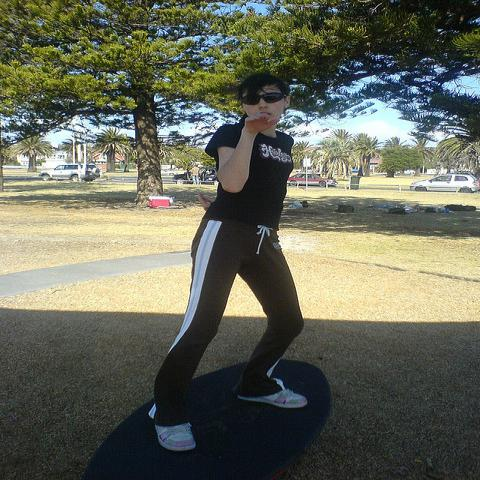car: (409, 174, 479, 194), (39, 164, 100, 184), (173, 167, 218, 185), (288, 172, 338, 188)
